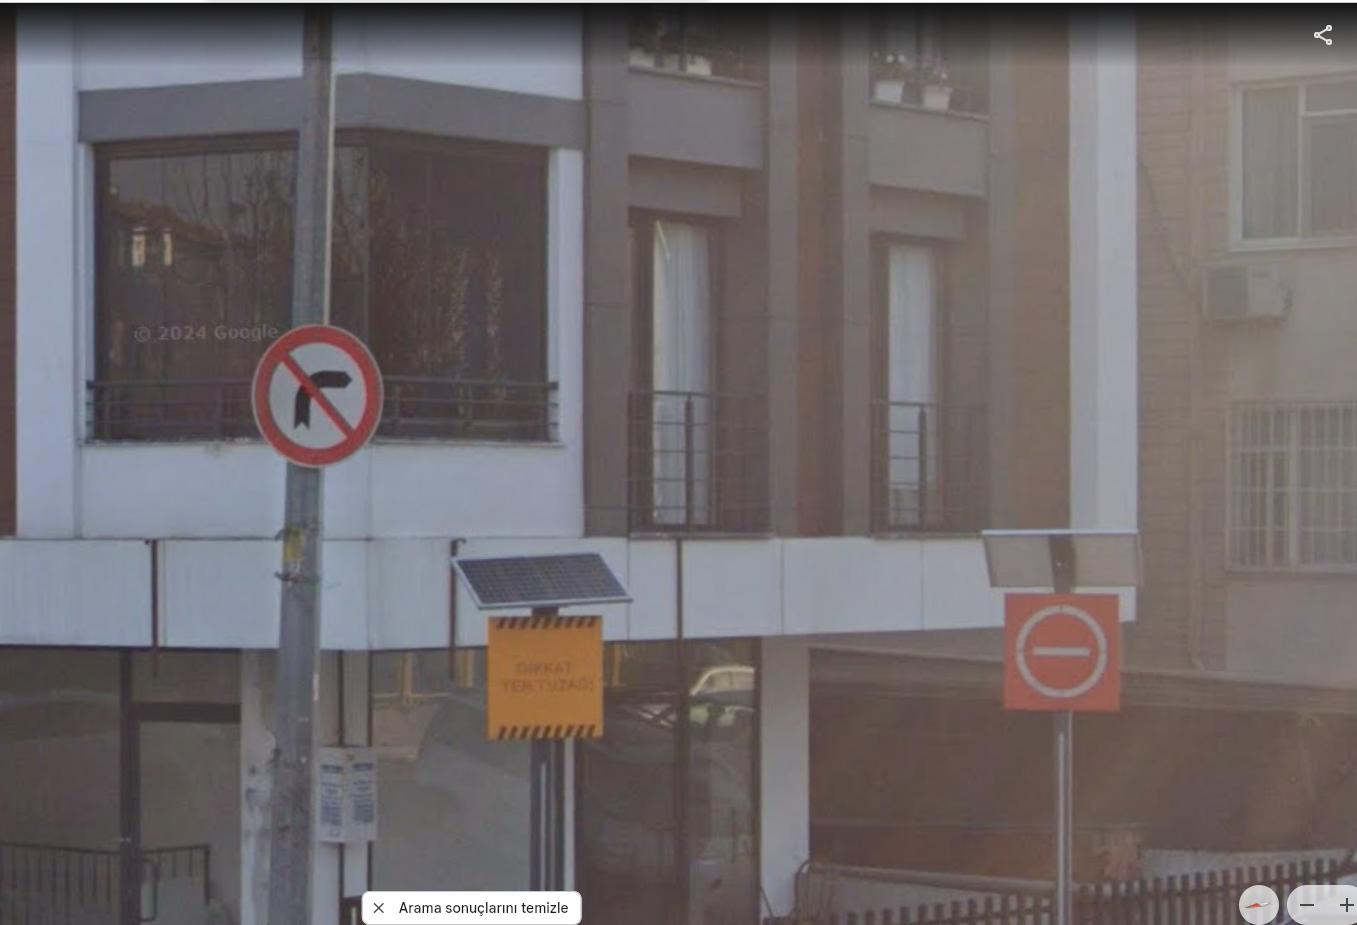rightturnsareforbidden: (249, 324, 382, 469)
